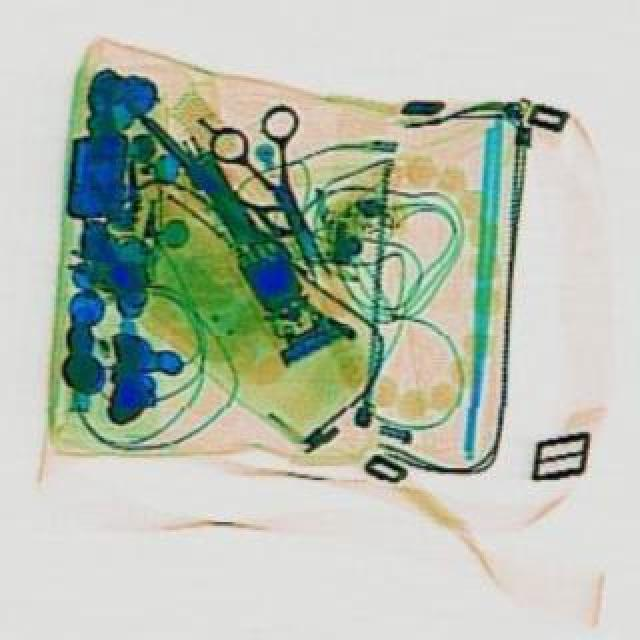pliers: (208, 96, 372, 288)
